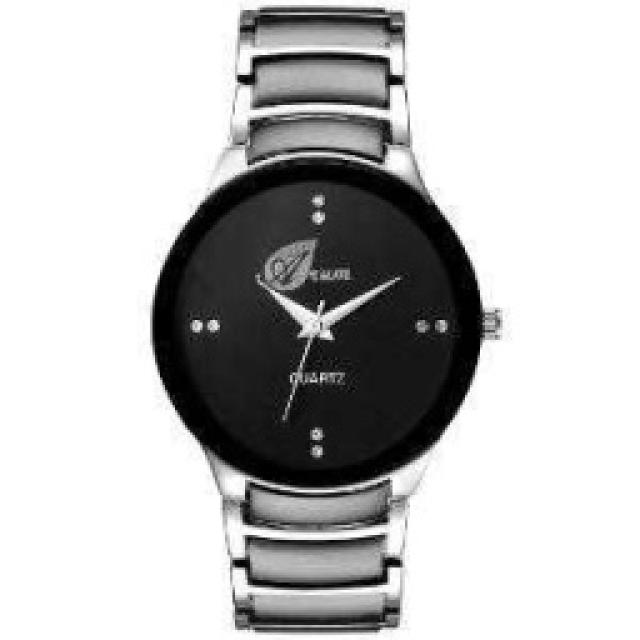saat: (143, 1, 522, 636)
